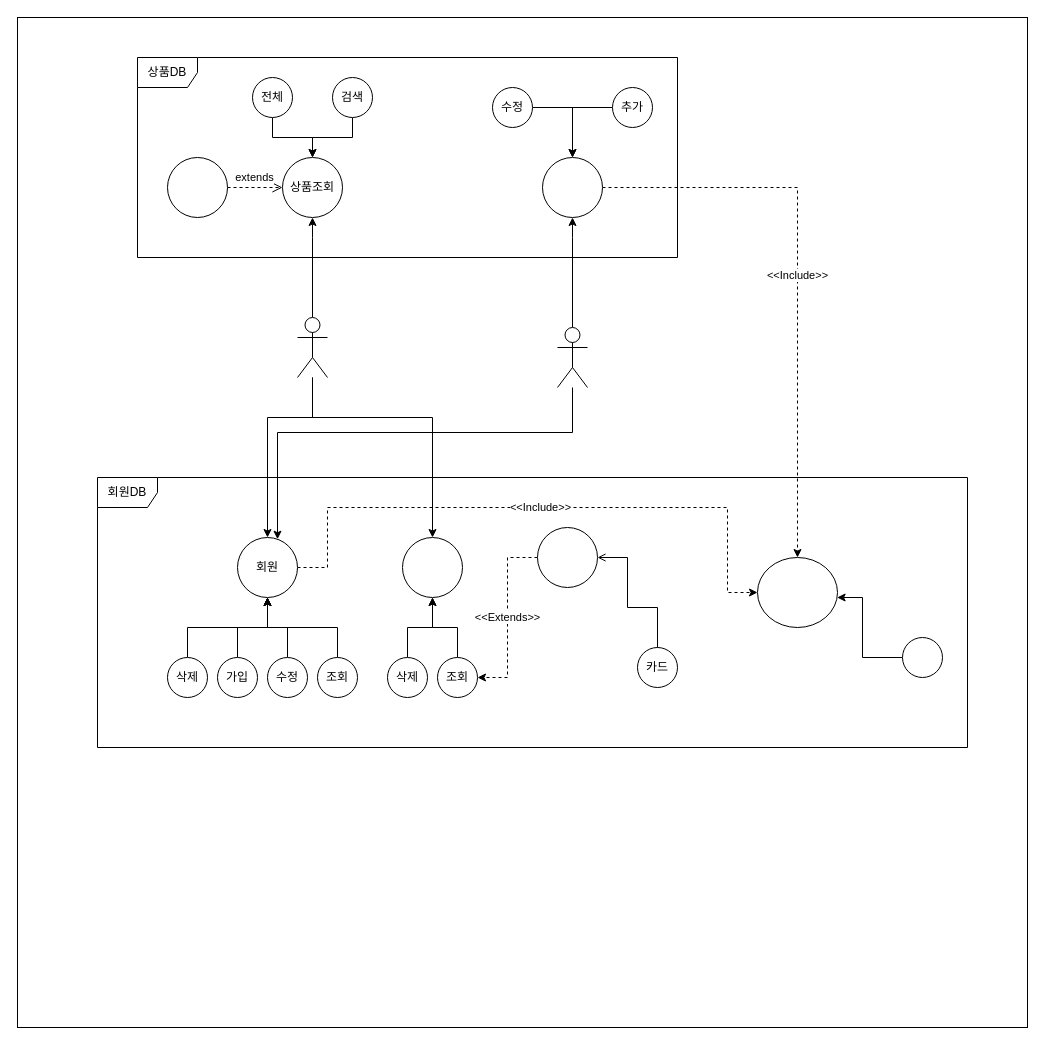
The diagram is 1045 pixels wide and 1045 high, and some of its shapes have lost their labels. The shapes that lost their labels are listed below. From the top down, each one's centre as x and y in pixels, then its label:
At (x=197, y=187): "장바구니 담기".
At (x=572, y=187): "상품관리".
At (x=312, y=347): "고객".
At (x=572, y=357): "직원".
At (x=432, y=567): "장바구니 관리".
At (x=567, y=557): "결제".
At (x=797, y=592): "인증".
At (x=922, y=657): "모바일".
